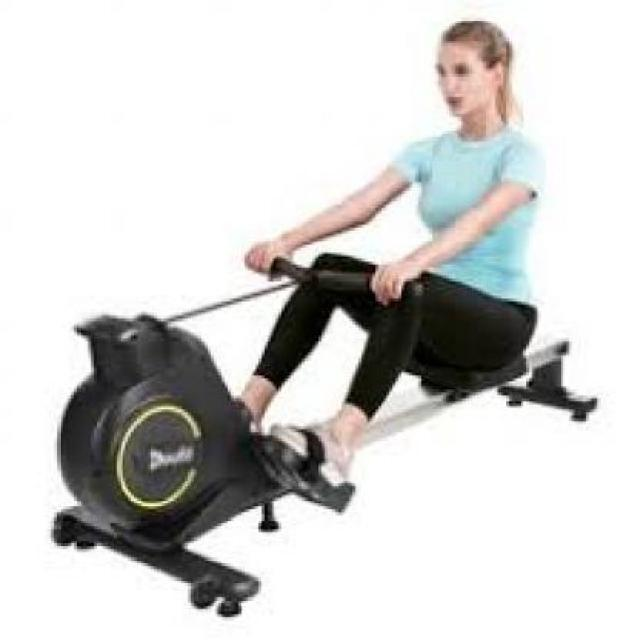Seated Cable Rows: (37, 11, 598, 622)
